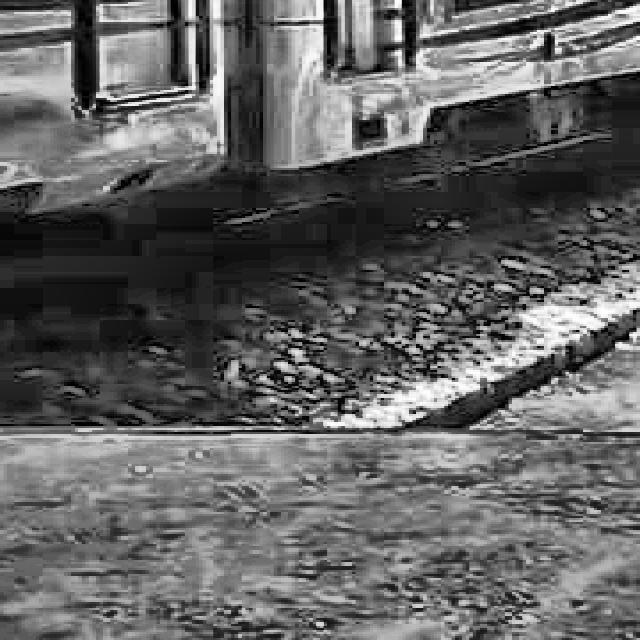Kereta: (99, 0, 640, 228), (0, 0, 260, 416)
